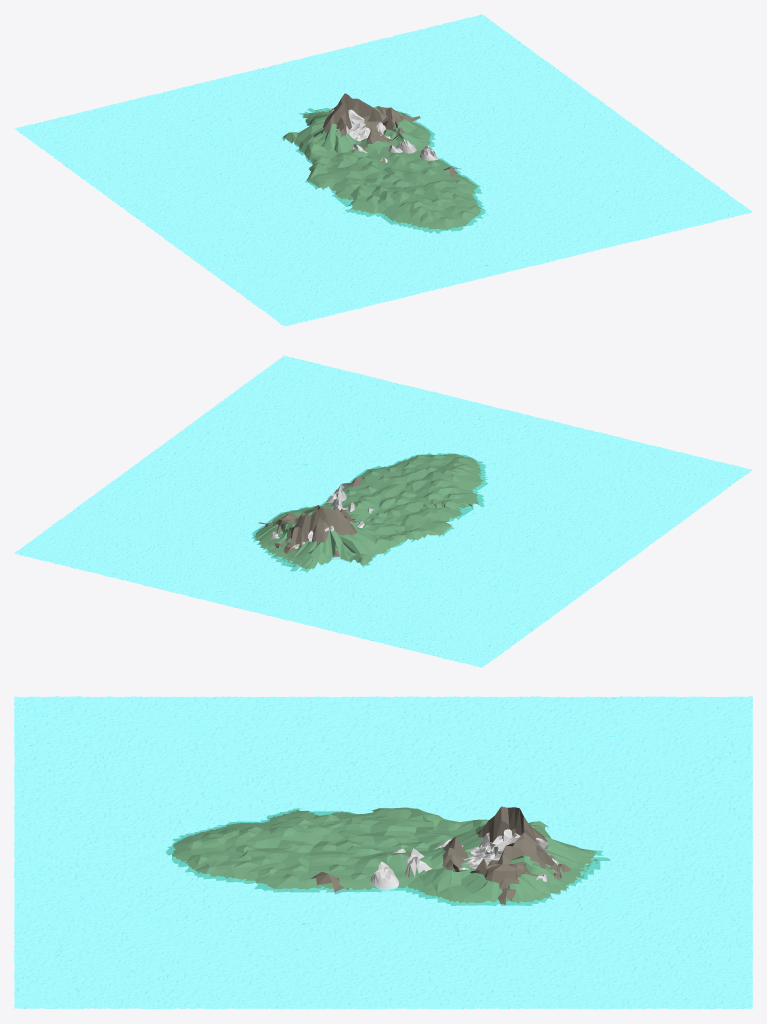
The model's file is island.fbx.
3 views of the same model, one above another, from view 1: azimuth 30°, elevation 25°; view 2: azimuth 150°, elevation 25°; view 3: azimuth 270°, elevation 25° (orthographic). The views are drawn at different scales.
Parts seen in each view (by area): view 1: Plane.003, Plane.001, Plane, Plane.002; view 2: Plane.003, Plane.001, Plane, Plane.002; view 3: Plane.003, Plane.001, Plane, Plane.002.
Part boxes in pixels (box(x1,y1,x2,y2)): Plane.003: box(15, 14, 752, 326); Plane.001: box(282, 106, 485, 233); Plane: box(321, 93, 460, 176); Plane.002: box(329, 108, 438, 162); Plane.003: box(14, 355, 751, 667); Plane.001: box(252, 453, 487, 572); Plane: box(258, 477, 364, 557); Plane.002: box(270, 486, 373, 560); Plane.003: box(14, 696, 752, 1009); Plane.001: box(166, 807, 609, 905); Plane: box(311, 806, 571, 904); Plane.002: box(370, 825, 558, 891).
Size of the model in its own units: 3171 by 259 by 3171.
